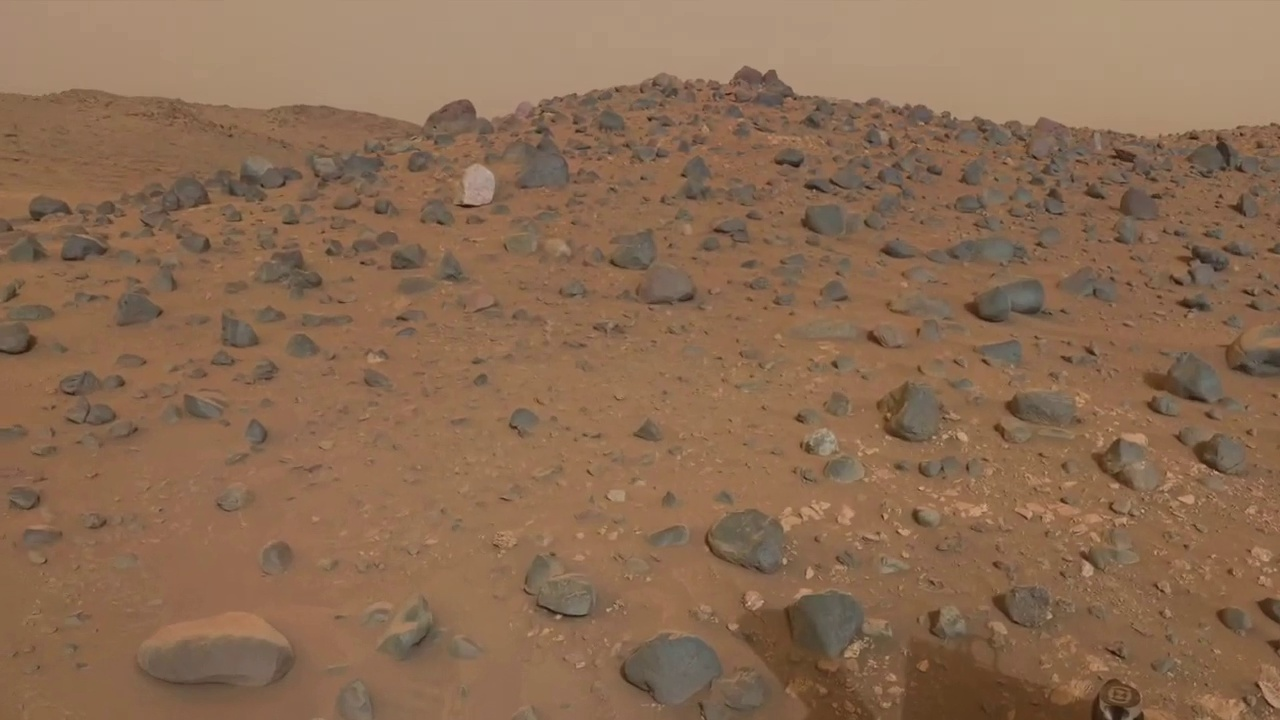rock: (704, 510, 786, 575), (876, 383, 944, 443), (991, 587, 1060, 638), (1091, 439, 1140, 491), (1004, 394, 1082, 426), (1191, 434, 1249, 477), (535, 594, 595, 621), (1232, 681, 1271, 720), (973, 340, 1022, 364), (65, 404, 117, 426), (59, 372, 104, 396), (9, 487, 43, 510)
